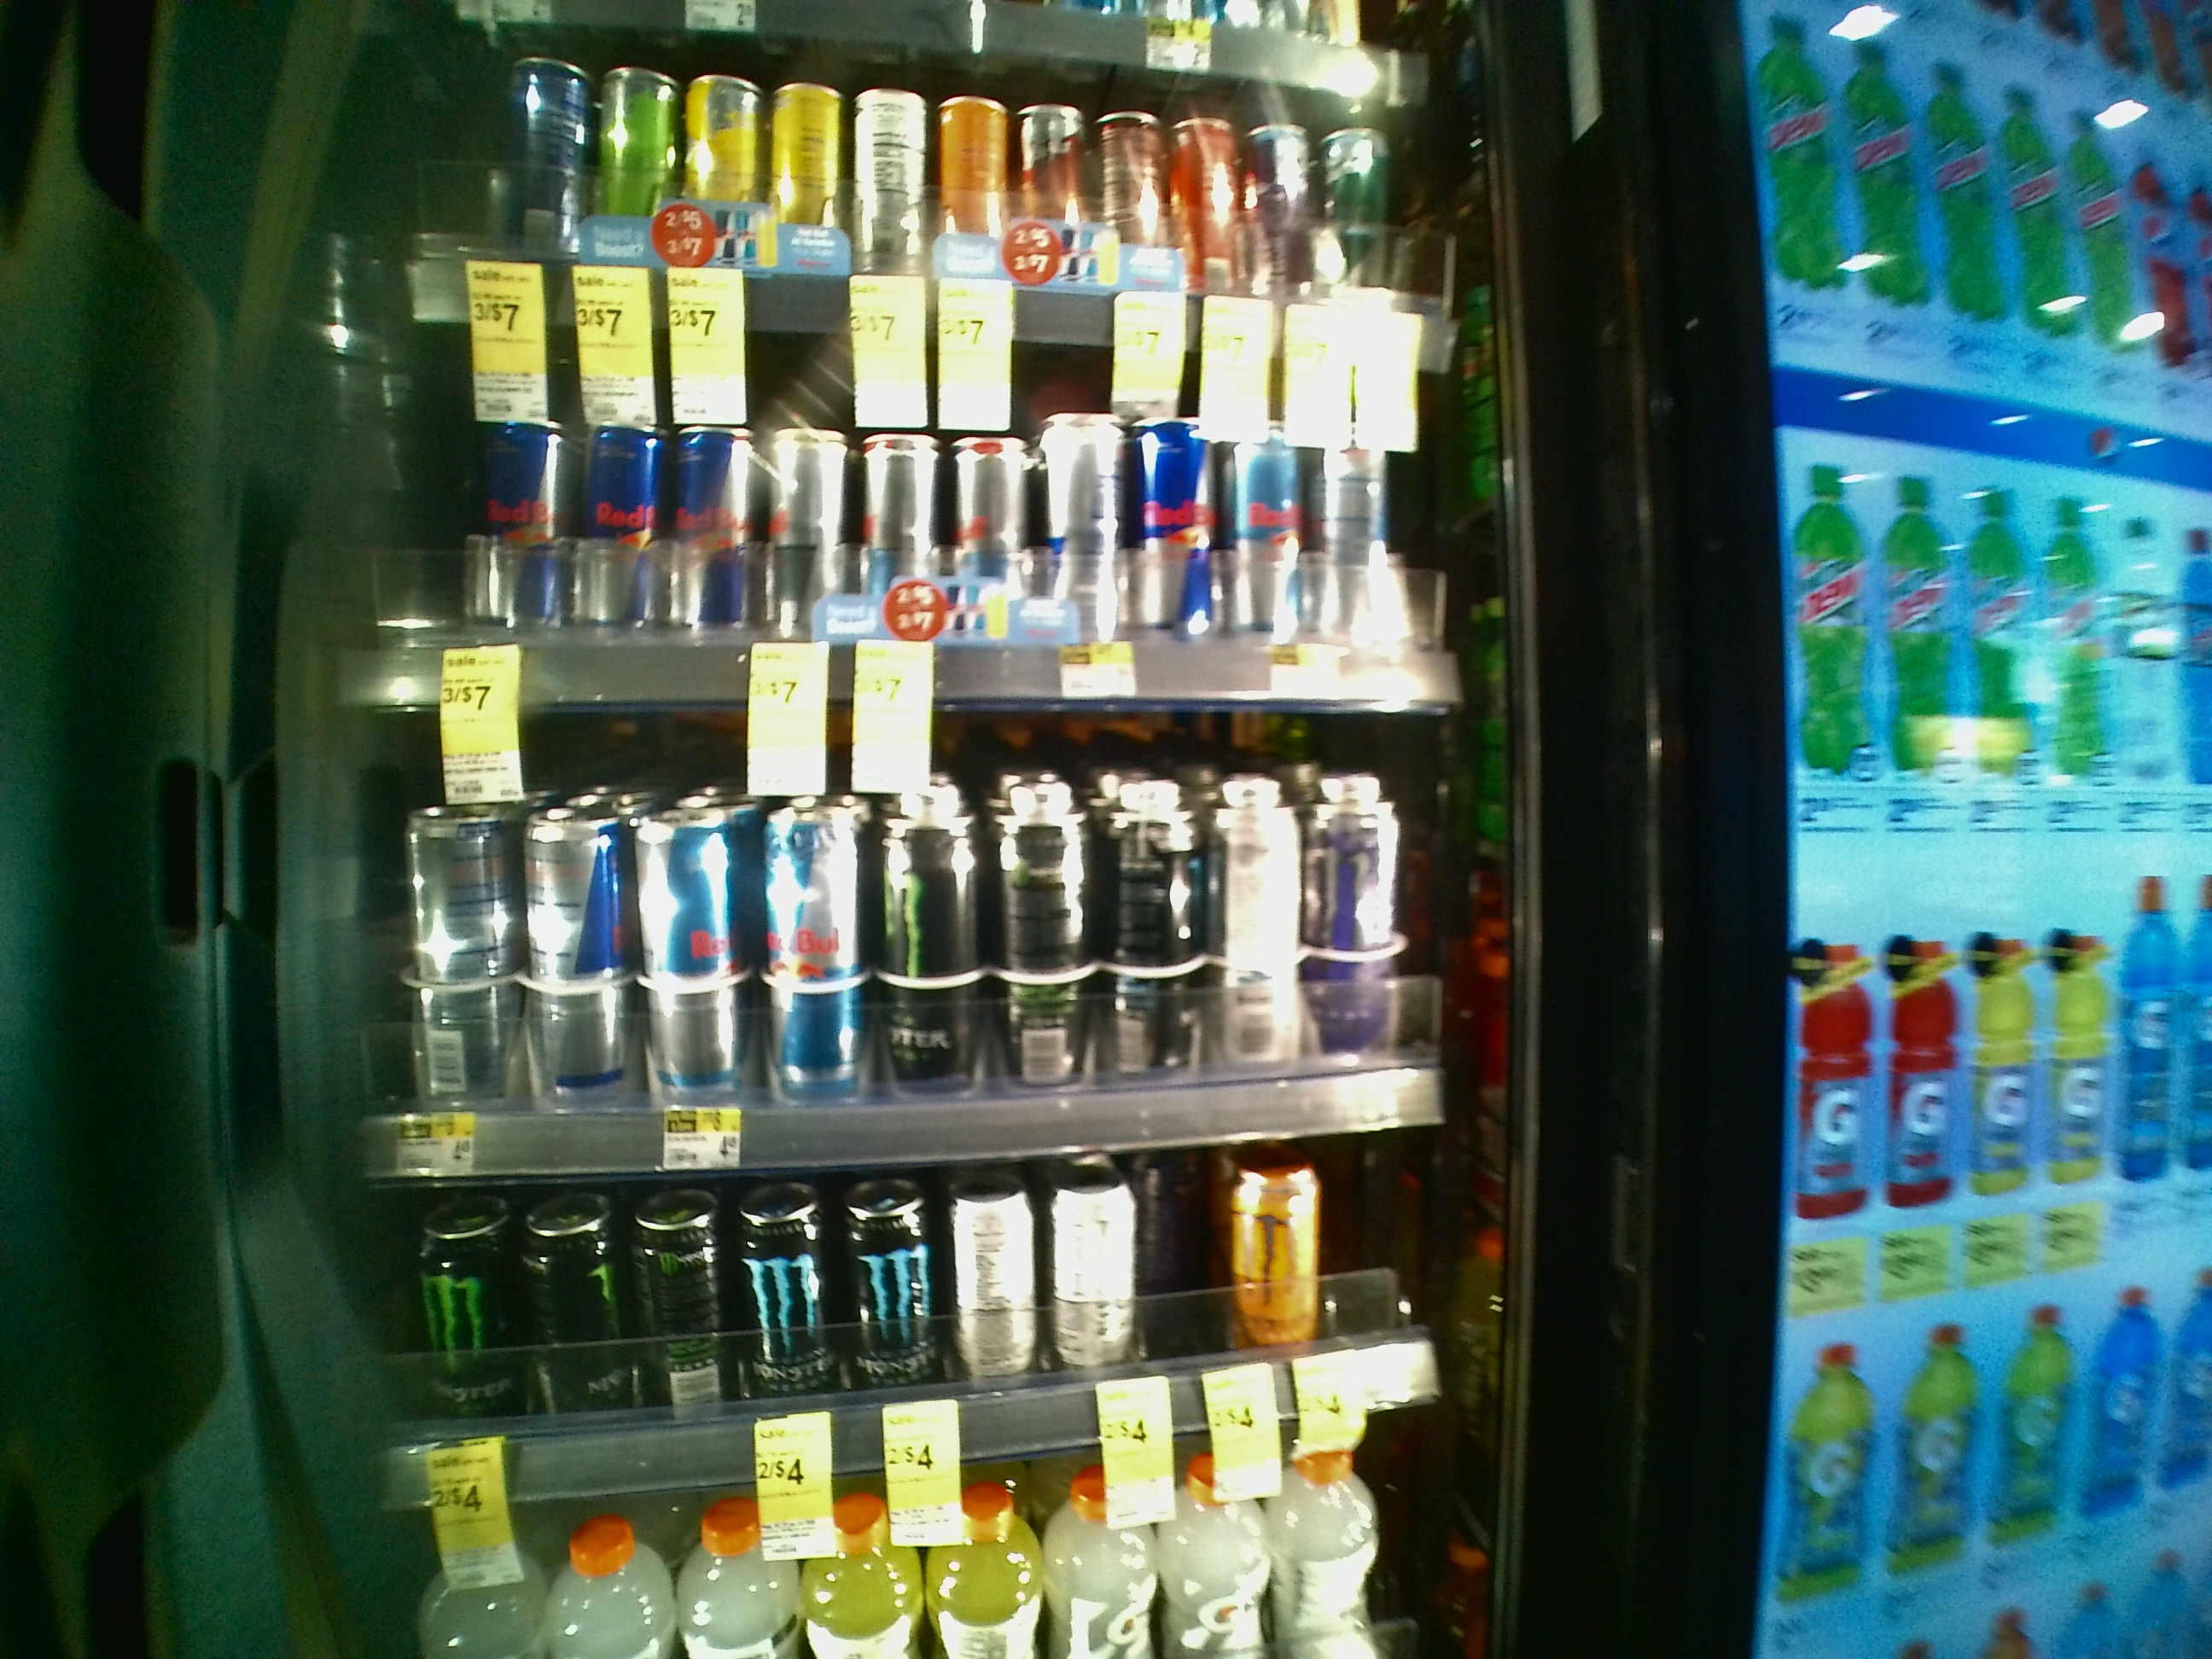shelf: (326, 697, 1543, 1143), (326, 298, 1521, 706)
